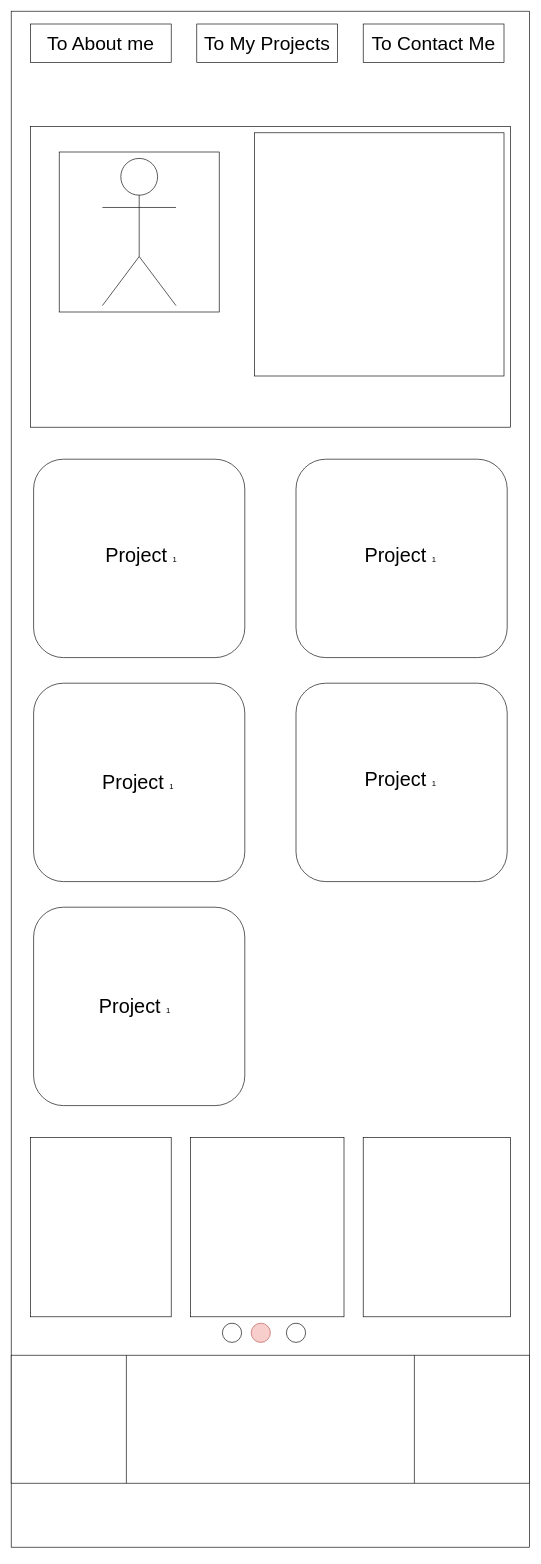
The diagram is 541 pixels wide and 1564 high, and some of its shapes have lost their labels. Here are the shapes that lost their labels. From the top down, the box of each, then its label:
(102, 158, 176, 306): Martin Bond
(254, 132, 504, 376): About me some text lorem ipsum
(11, 1355, 530, 1483): Contact me
